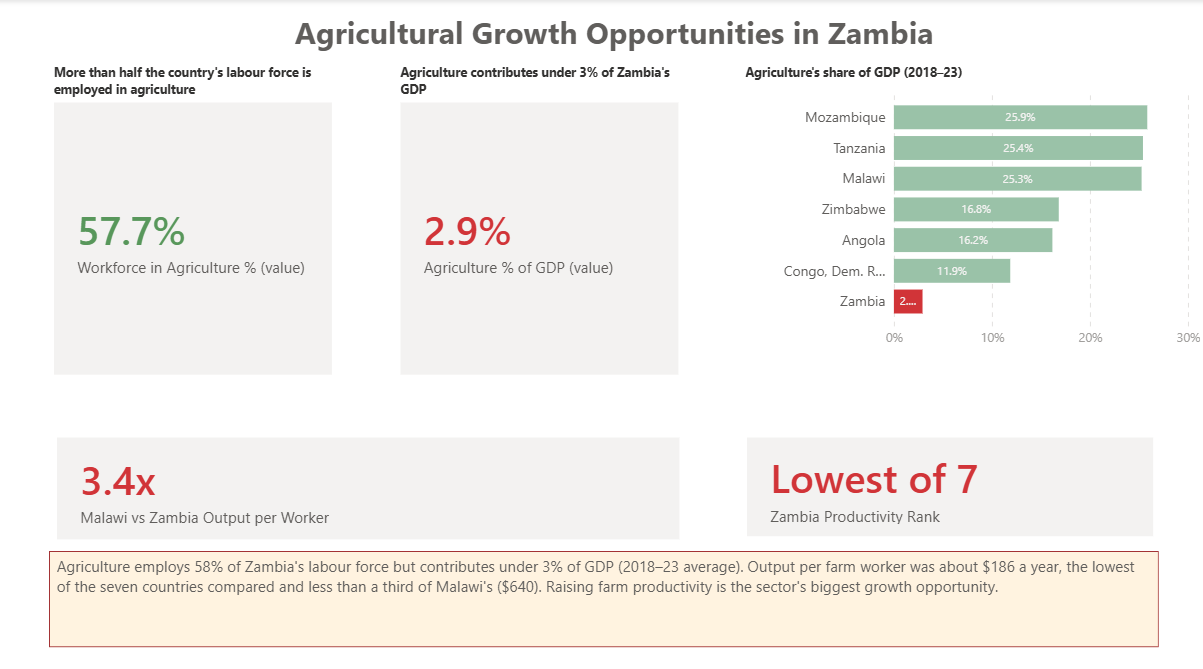

This screenshot's page, from the dashboard's own definition file:
{"tool":"powerbi","page":{"name":"Overview","canvas":[1280,720],"ordinal":1},"visuals":[{"type":"cardVisual","title":"More than half the country''s labour force is employed in agriculture","fields":{"Data":["Data.Workforce in Agriculture % (value)"]},"box":[54.5,69.1,305.4,335.6],"z":0},{"type":"cardVisual","title":"Agriculture contributes under 3% of Zambia''s GDP","fields":{"Data":["Data.Agriculture % of GDP (value)"]},"box":[422.1,69.1,305.4,335.6],"z":1000},{"type":"clusteredBarChart","title":"Agriculture''s share of GDP (2018–23)","fields":{"Category":["Data.Country Name"],"Y":["Data.Agriculture % of GDP (value)"]},"box":[787.8,69.1,492.2,327.8],"z":2000},{"type":"cardVisual","fields":{"Data":["Data.Zambia Productivity Rank"]},"box":[788.3,460,441.7,115],"z":5000},{"type":"textbox","box":[56.4,7.8,1195.4,52.5],"z":6000},{"type":"shape","box":[53.5,585.5,1176.9,102.1],"z":7000},{"type":"textbox","box":[57,585.5,1165.1,100.9],"z":8000},{"type":"cardVisual","fields":{"Data":["Data.Malawi vs Zambia Output per Worker"]},"box":[56.7,460,670,118.3],"z":10000}]}

Visuals, with their boxes in screenshot pixels (x1, y1, x2, y2), scaled from the page's 1280x720 canvas onto the 1203x669 screenshot:
"More than half the country''s labour force is employed in agriculture" cardVisual: crop(51, 64, 338, 376)
"Agriculture contributes under 3% of Zambia''s GDP" cardVisual: crop(397, 64, 684, 376)
"Agriculture''s share of GDP (2018–23)" clusteredBarChart: crop(740, 64, 1202, 369)
cardVisual - Data.Zambia Productivity Rank: crop(741, 427, 1156, 534)
textbox: crop(53, 7, 1176, 56)
shape: crop(50, 544, 1156, 639)
textbox: crop(54, 544, 1149, 638)
cardVisual - Data.Malawi vs Zambia Output per Worker: crop(53, 427, 683, 537)
